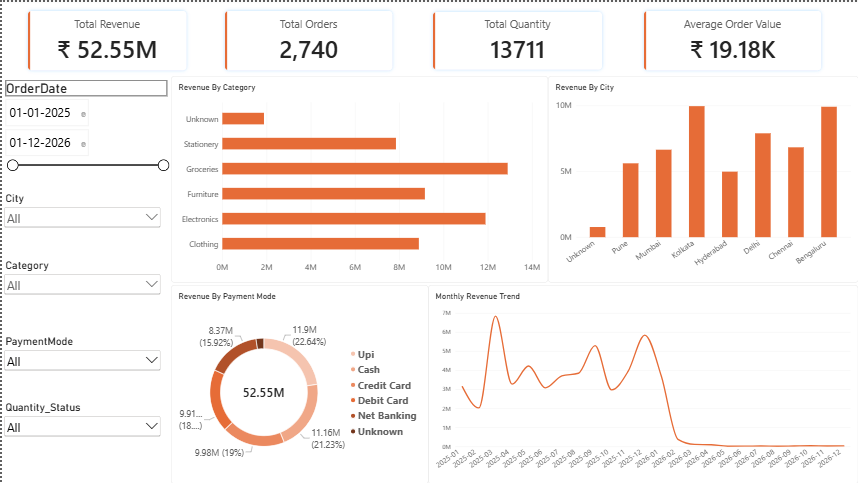

Layout of this report page (visuals, bound fields, positions):
{"tool":"powerbi","page":{"name":"Page 1","canvas":[1920,1080],"ordinal":0},"visuals":[{"type":"cardVisual","fields":{"Data":["cleaned_sales_data.Total Revenue"]},"box":[46.1,8.8,377.6,155.9],"z":0},{"type":"cardVisual","fields":{"Data":["cleaned_sales_data.Total Orders"]},"box":[489.5,8.8,397.3,155.9],"z":1000},{"type":"cardVisual","fields":{"Data":["cleaned_sales_data.Total Quantity"]},"box":[954.9,11,401.7,151.5],"z":2000},{"type":"cardVisual","fields":{"Data":["cleaned_sales_data.Average Order Value"]},"box":[1426.8,8.8,419.3,155.9],"z":3000},{"type":"clusteredBarChart","title":"Revenue By Category","fields":{"Category":["cleaned_sales_data.Category"],"Y":["cleaned_sales_data.Total Revenue"]},"box":[377.6,166.8,845.1,463.2],"z":4000},{"type":"clusteredColumnChart","title":"Revenue By City","fields":{"Category":["cleaned_sales_data.City"],"Y":["cleaned_sales_data.Total Revenue"]},"box":[1222.7,166.8,695.9,463.2],"z":5000},{"type":"lineChart","title":"Monthly Revenue Trend","fields":{"Category":["cleaned_sales_data.YearMonth"],"Y":["cleaned_sales_data.Total Revenue"]},"box":[954.9,634.4,963.7,445.6],"z":6000},{"type":"donutChart","title":"Revenue By Payment Mode","fields":{"Category":["cleaned_sales_data.PaymentMode"],"Y":["cleaned_sales_data.Total Revenue"]},"box":[377.6,634.4,577.3,445.6],"z":7000},{"type":"slicer","fields":{"Values":["cleaned_sales_data.City"]},"box":[0,425.9,360,114.1],"z":8000},{"type":"slicer","fields":{"Values":["cleaned_sales_data.Category"]},"box":[0,575.1,360,118.5],"z":9000},{"type":"slicer","fields":{"Values":["cleaned_sales_data.PaymentMode"]},"box":[0,746.3,360,131.7],"z":10000},{"type":"slicer","fields":{"Values":["cleaned_sales_data.OrderDate"]},"box":[0,175.6,377.6,250.2],"z":11000},{"type":"slicer","fields":{"Values":["cleaned_sales_data.YearMonth"]},"box":[0,893.4,360,114.1],"z":12000}]}

Visuals, with their boxes in screenshot pixels (x1, y1, x2, y2), scaled from the page's 1920x1080 canvas onto the 858x483 screenshot:
cardVisual - cleaned_sales_data.Total Revenue: Rect(21, 4, 189, 74)
cardVisual - cleaned_sales_data.Total Orders: Rect(219, 4, 396, 74)
cardVisual - cleaned_sales_data.Total Quantity: Rect(427, 5, 606, 73)
cardVisual - cleaned_sales_data.Average Order Value: Rect(638, 4, 825, 74)
"Revenue By Category" clusteredBarChart: Rect(169, 75, 546, 282)
"Revenue By City" clusteredColumnChart: Rect(546, 75, 857, 282)
"Monthly Revenue Trend" lineChart: Rect(427, 284, 857, 482)
"Revenue By Payment Mode" donutChart: Rect(169, 284, 427, 482)
slicer - cleaned_sales_data.City: Rect(0, 190, 161, 242)
slicer - cleaned_sales_data.Category: Rect(0, 257, 161, 310)
slicer - cleaned_sales_data.PaymentMode: Rect(0, 334, 161, 393)
slicer - cleaned_sales_data.OrderDate: Rect(0, 79, 169, 190)
slicer - cleaned_sales_data.YearMonth: Rect(0, 400, 161, 451)
